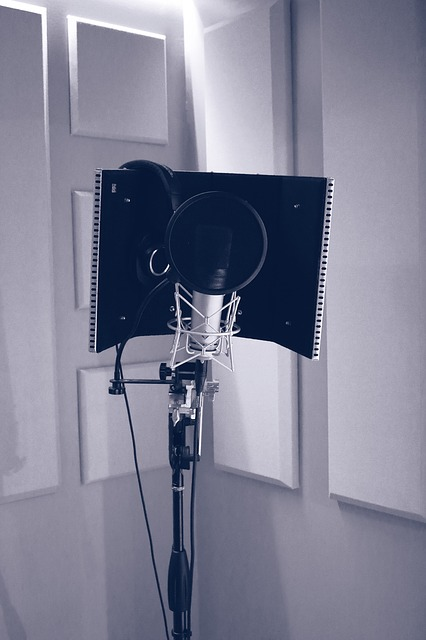headphones: (118, 160, 181, 286)
